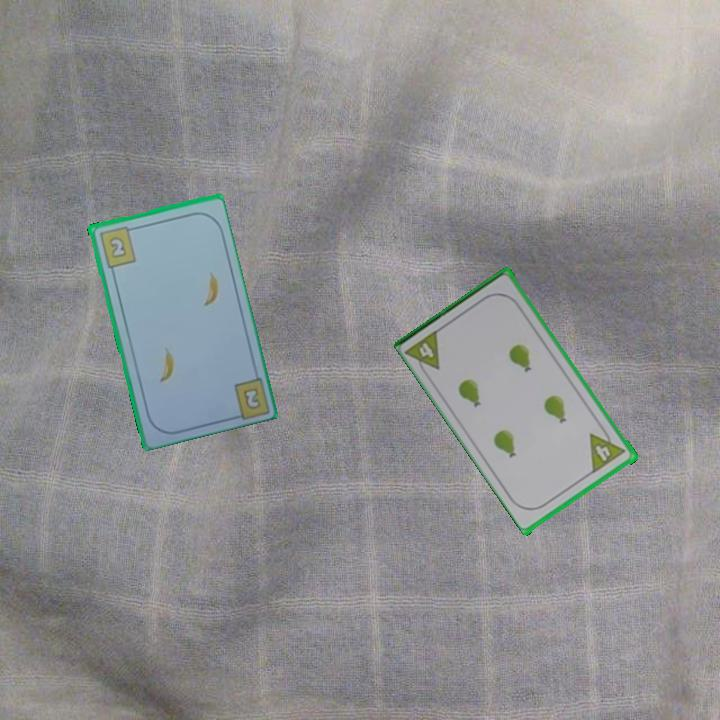2b: (95, 222, 139, 270), (239, 384, 264, 412)
4p: (586, 423, 629, 475), (403, 326, 443, 380)
